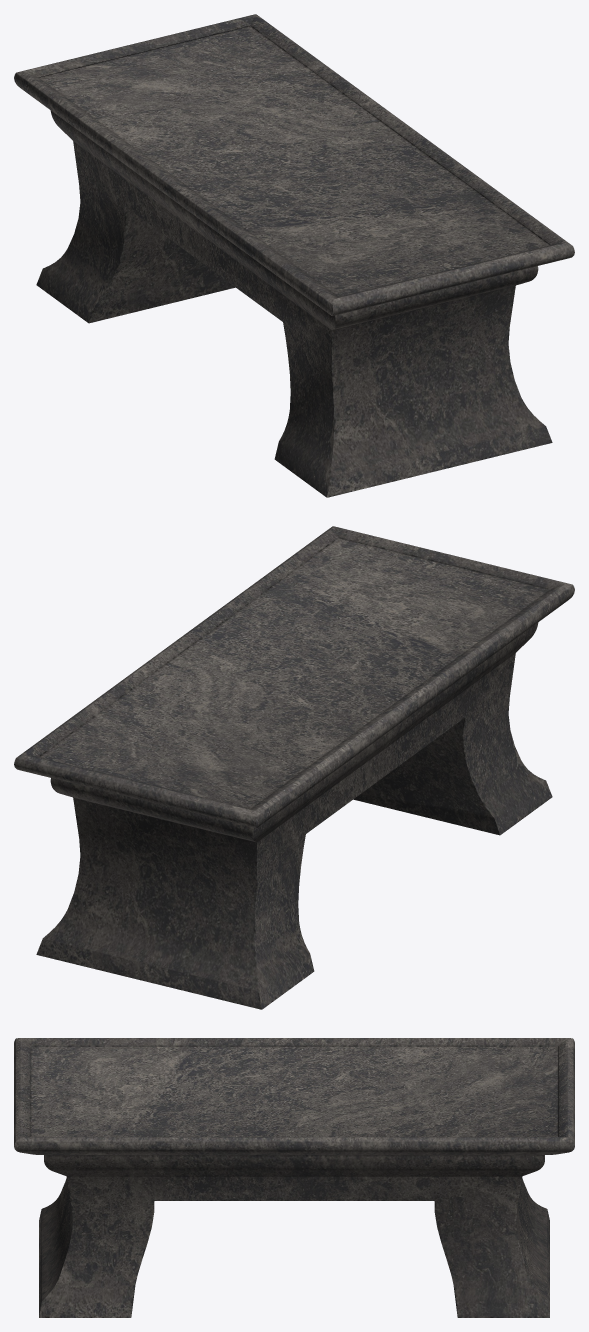
Rendered from stone_table_-_classical_style.glb.
The picture shows the model from 3 angles, top to bottom: view 1: azimuth 30°, elevation 25°; view 2: azimuth 150°, elevation 25°; view 3: azimuth 270°, elevation 25°; orthographic projection. The views are drawn at different scales.
Visible parts, largest first — view 1: StoneTab_0; view 2: StoneTab_0; view 3: StoneTab_0.
Boxes of the visible parts, x1,y1,x2,y2 form: StoneTab_0: (14, 14, 574, 497); StoneTab_0: (14, 526, 574, 1009); StoneTab_0: (14, 1038, 574, 1317).
Size of the model in its own units: 1.75 by 1.43 by 3.99.
Materials: 1 (1 with a texture image).
